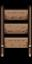Obstacle: (0, 4, 32, 58)
